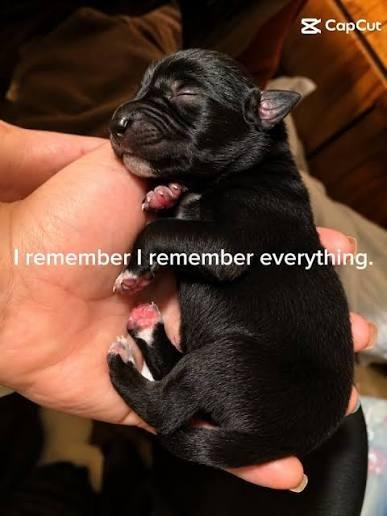puppy-dog: (109, 43, 355, 467)
